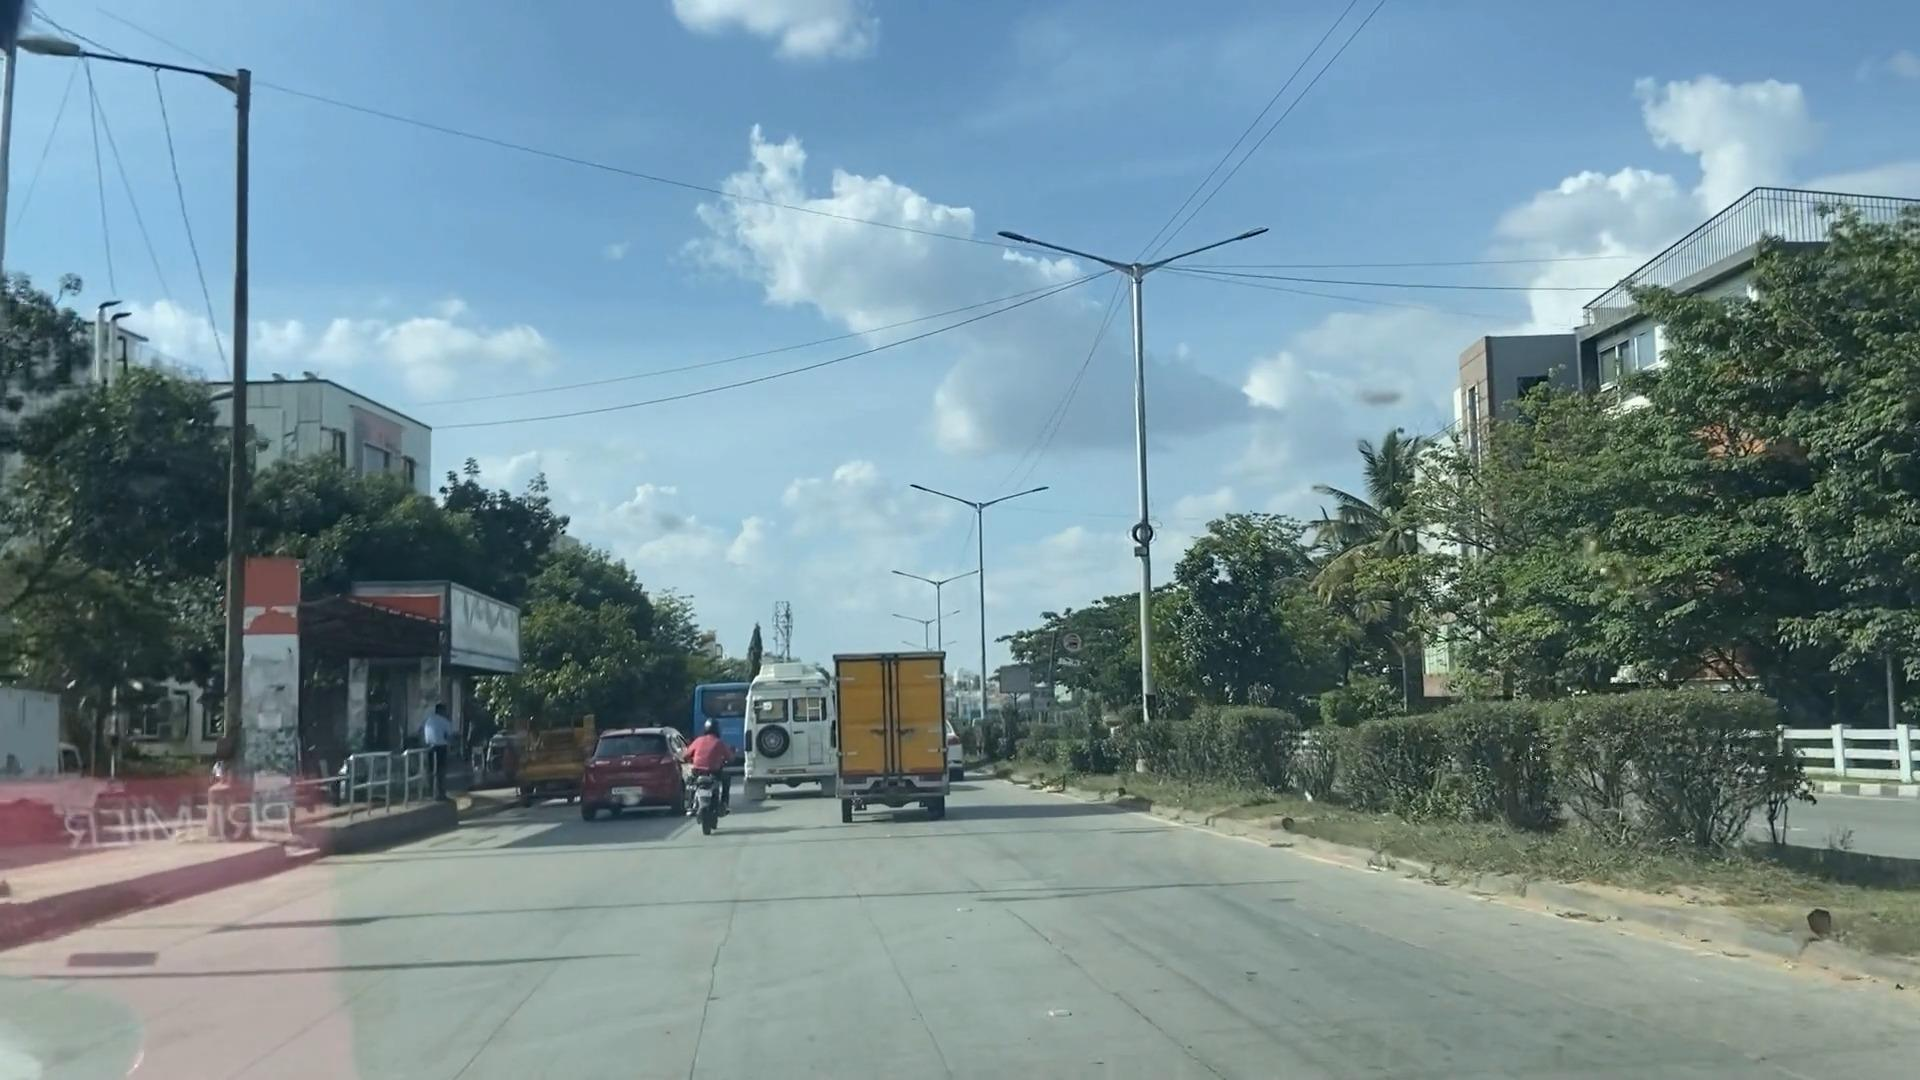HMV: (819, 646, 976, 819)
LMV: (583, 727, 695, 816), (682, 708, 731, 822)
